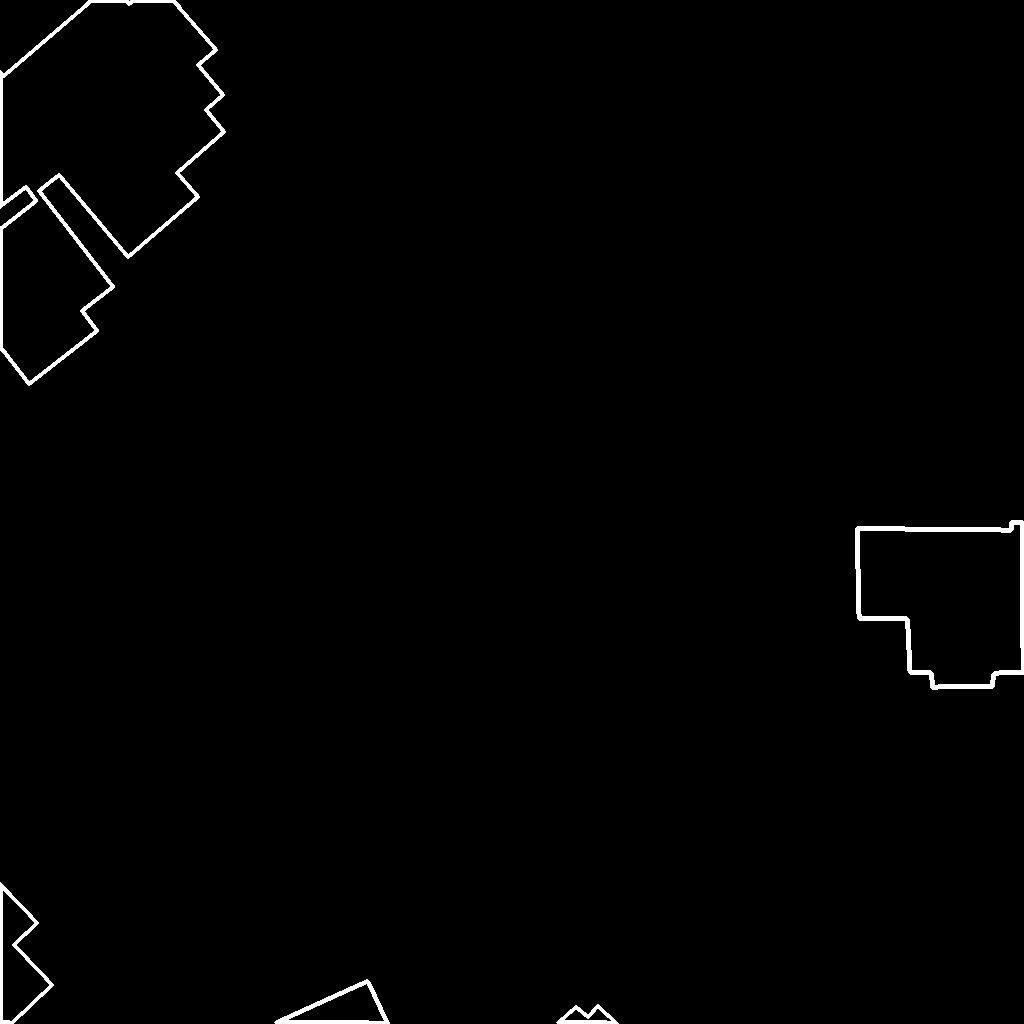building: (0, 0, 225, 385), (857, 522, 1024, 688), (275, 981, 618, 1024), (0, 884, 53, 1024)
